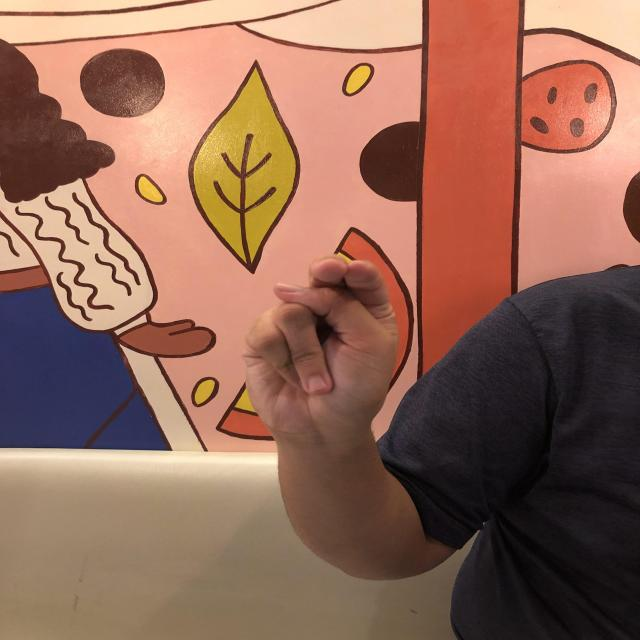N: (240, 253, 403, 438)
